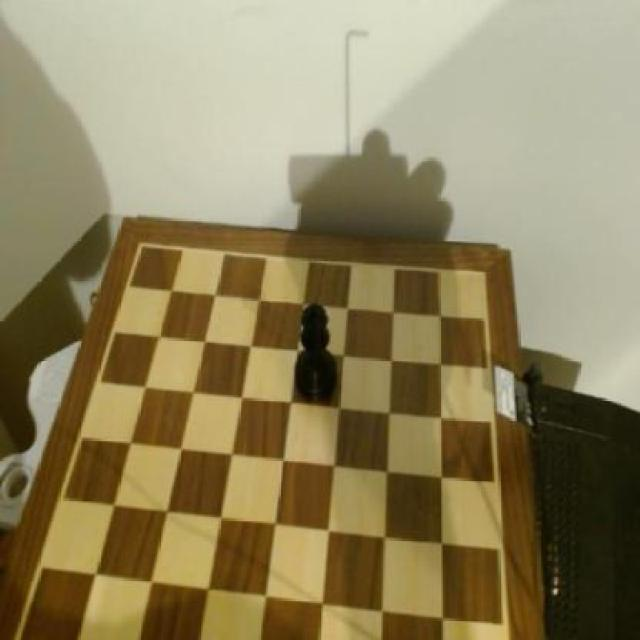black-pawn: (292, 302, 342, 411)
